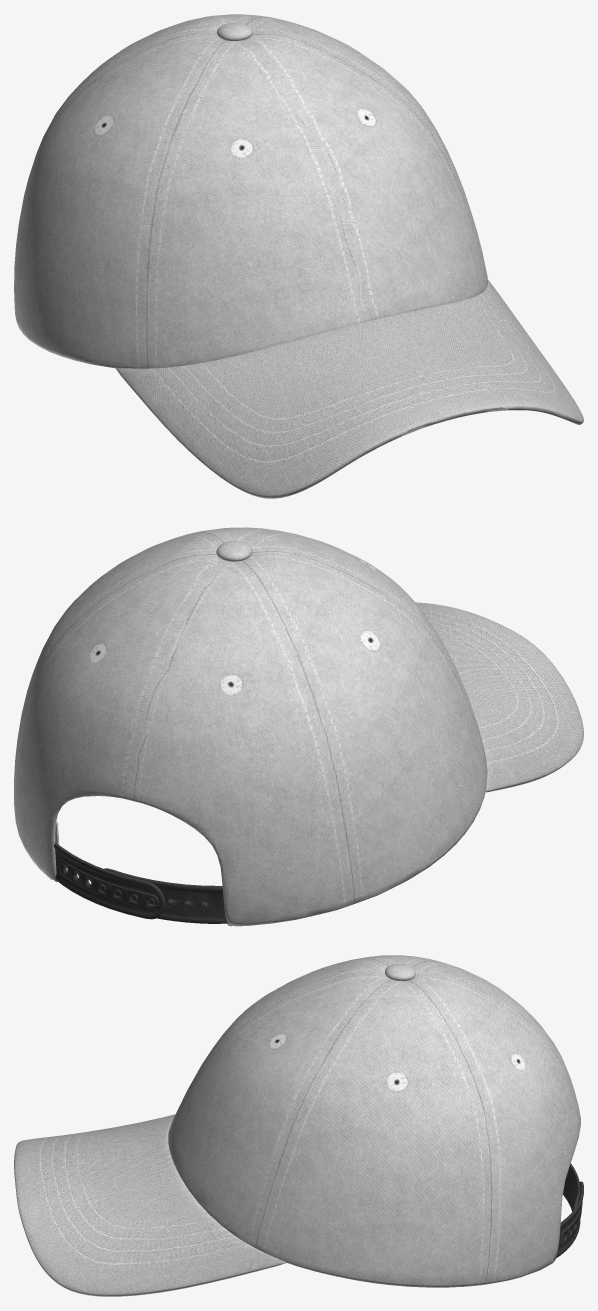
File: cap.glb
The picture shows the model from 3 angles, top to bottom: view 1: azimuth 30°, elevation 25°; view 2: azimuth 150°, elevation 25°; view 3: azimuth 270°, elevation 25°; orthographic projection. The views are drawn at different scales.
Parts seen in each view (by area): view 1: mainCap, bill; view 2: mainCap, bill, strapAdjust_female, strapAdjust_male, topButton; view 3: mainCap, bill, strapAdjust_female, strapAdjust_male.
Boxes of the visible parts, x1,y1,x2,y2 form: mainCap: (14,14,487,368); bill: (116,279,583,498); mainCap: (14,527,487,926); bill: (415,602,583,792); strapAdjust_female: (54,842,165,919); strapAdjust_male: (99,868,227,923); topButton: (216,540,252,561); mainCap: (168,955,580,1287); bill: (14,1114,286,1296); strapAdjust_female: (556,1181,583,1257); strapAdjust_male: (563,1163,581,1221).
Bounding box in the file's own units: 0.1908 × 0.133 × 0.2651.
Materials: 3 (1 with a texture image).
